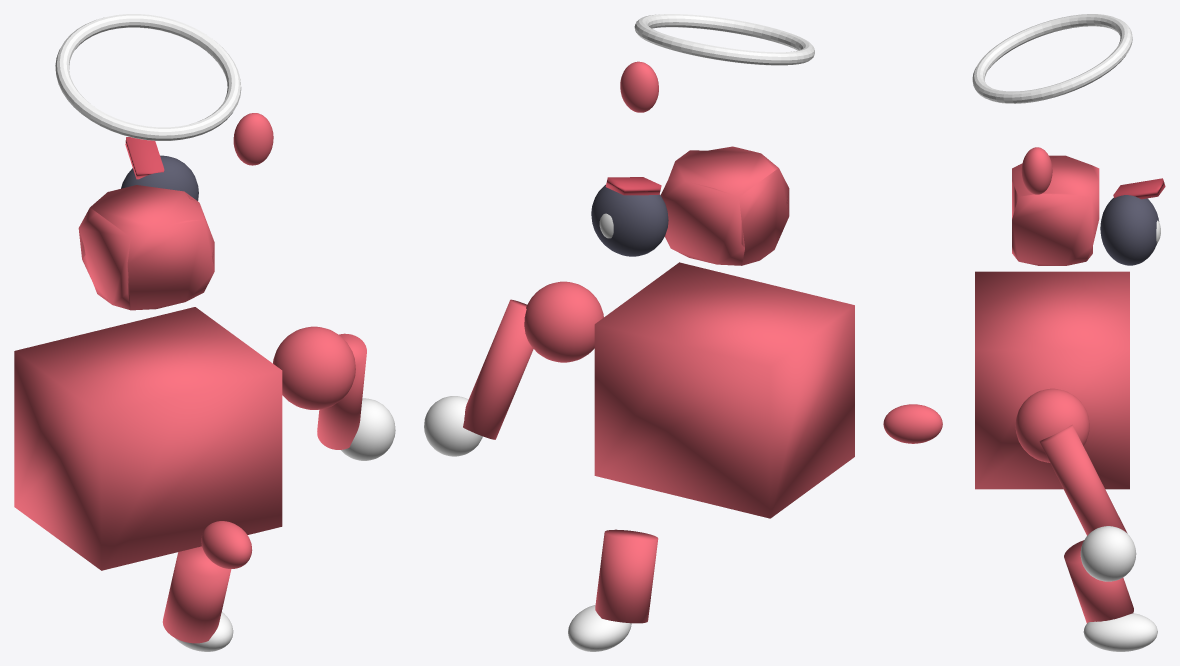
Rendered from mad-chao-v2.glb.
The picture shows the model from 3 angles, left to right: view 1: azimuth 30°, elevation 25°; view 2: azimuth 150°, elevation 25°; view 3: azimuth 270°, elevation 25°; orthographic projection. The views are drawn at different scales.
Visible parts, largest first — view 1: ChaoBody, ChaoHead, ChaoHalo, ChaoShoulder, ChaoLeg, ChaoArm, ChaoHand, ChaoTail, ChaoEar, ChaoEye, ChaoEyebrow, ChaoFoot; view 2: ChaoBody, ChaoHead, ChaoArm, ChaoShoulder, ChaoLeg, ChaoHalo, ChaoEye, ChaoHand, ChaoFoot, ChaoEar, ChaoEyebrow; view 3: ChaoBody, ChaoHead, ChaoHalo, ChaoArm, ChaoShoulder, ChaoEye, ChaoLeg, ChaoHand, ChaoFoot, ChaoTail, ChaoEar, ChaoEyebrow.
Part boxes in pixels (box(x1,y1,x2,y2)): ChaoBody: box(14, 307, 282, 570); ChaoHead: box(78, 185, 214, 310); ChaoHalo: box(55, 14, 241, 140); ChaoShoulder: box(273, 326, 355, 409); ChaoLeg: box(162, 546, 231, 643); ChaoArm: box(317, 333, 366, 449); ChaoHand: box(341, 398, 395, 460); ChaoTail: box(201, 521, 252, 568); ChaoEar: box(233, 113, 273, 165); ChaoEye: box(121, 155, 198, 200); ChaoEyebrow: box(125, 137, 164, 179); ChaoFoot: box(175, 612, 233, 651); ChaoBody: box(594, 262, 854, 518); ChaoHead: box(660, 146, 789, 265); ChaoArm: box(463, 299, 533, 439); ChaoShoulder: box(524, 281, 603, 362); ChaoLeg: box(595, 529, 658, 623); ChaoHalo: box(634, 14, 814, 65); ChaoEye: box(591, 184, 668, 256); ChaoHand: box(424, 396, 482, 456); ChaoFoot: box(568, 605, 631, 651); ChaoEar: box(620, 61, 658, 112); ChaoEyebrow: box(605, 177, 661, 195); ChaoBody: box(975, 271, 1129, 489); ChaoHead: box(1012, 155, 1099, 265); ChaoHalo: box(972, 14, 1132, 103); ChaoArm: box(1039, 424, 1127, 535); ChaoShoulder: box(1015, 388, 1089, 462); ChaoEye: box(1100, 195, 1159, 265); ChaoLeg: box(1064, 540, 1133, 623); ChaoHand: box(1080, 526, 1136, 581); ChaoFoot: box(1083, 613, 1157, 651); ChaoTail: box(883, 404, 942, 443); ChaoEar: box(1021, 147, 1052, 194); ChaoEyebrow: box(1113, 178, 1165, 199).
Bounding box in the file's own units: 1.21 × 2.05 × 0.9105.
